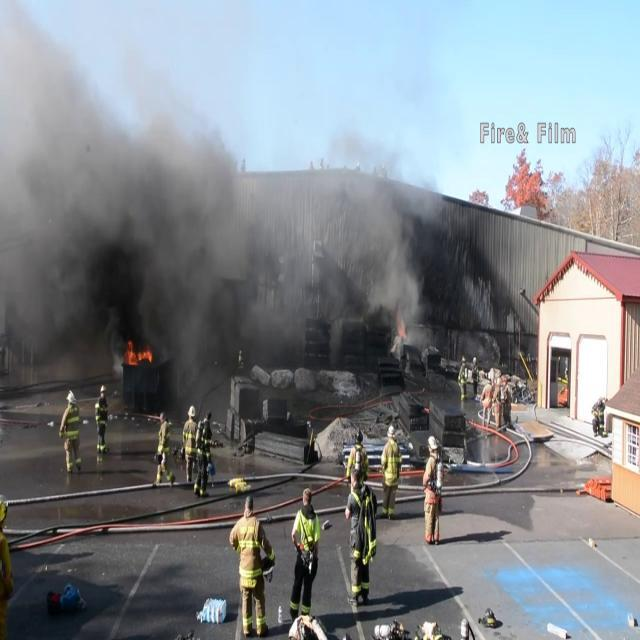Fire: (124, 335, 154, 370)
Smoke: (0, 40, 432, 403)
